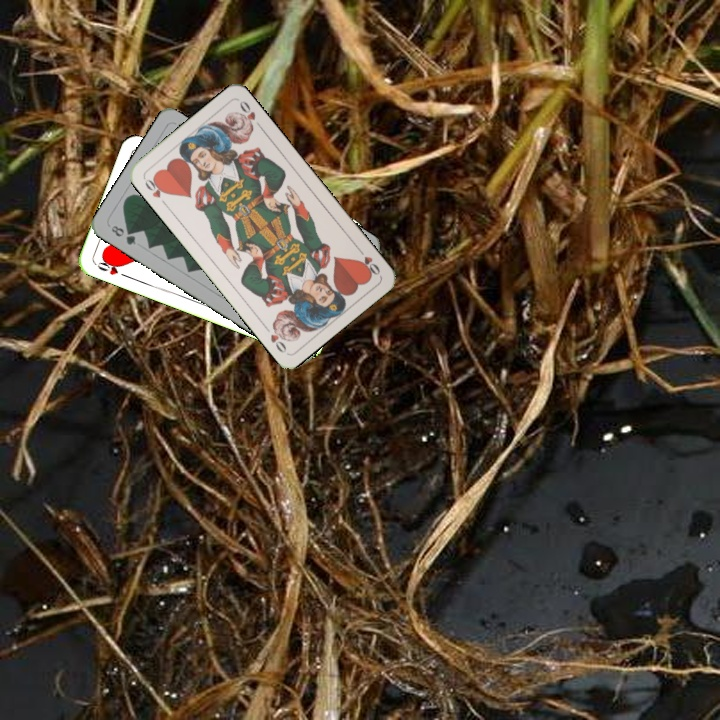G8: (107, 221, 139, 248)
HO: (140, 173, 170, 208), (353, 244, 383, 278), (91, 255, 131, 280)
